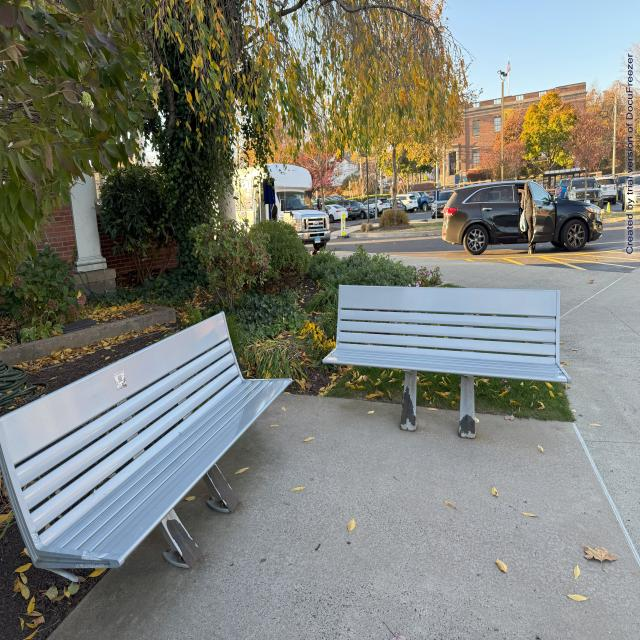chair: (0, 284, 293, 613), (327, 272, 588, 483)
